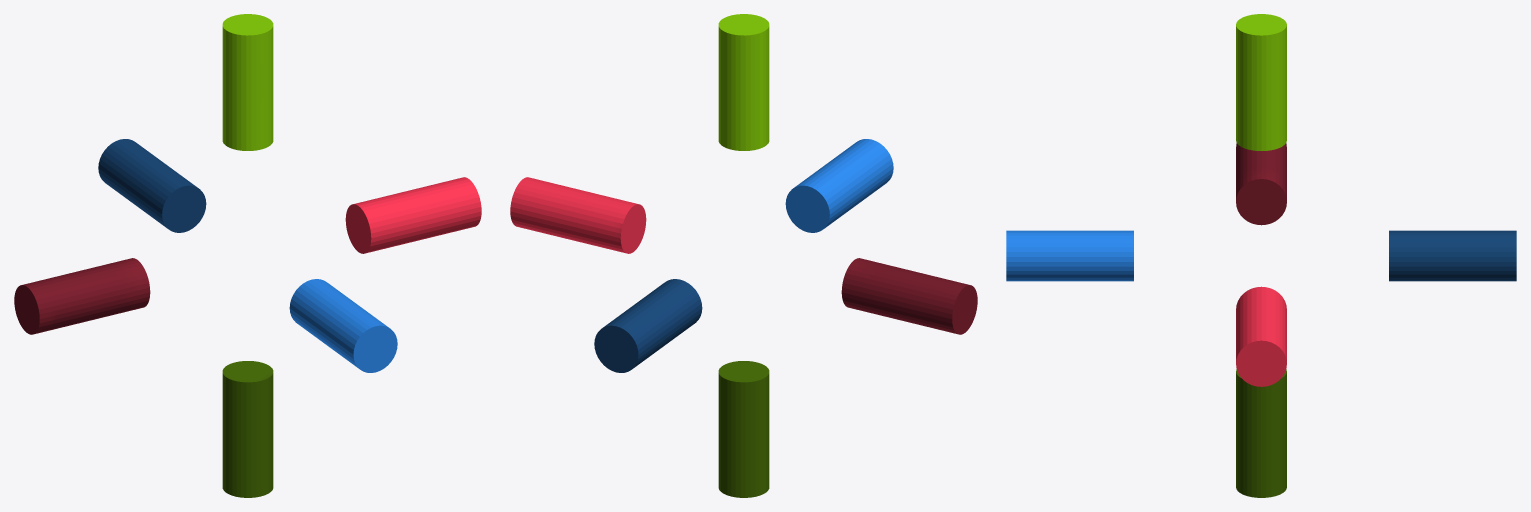
Rendered from reference_frame.glb.
3 views of the same model, side by side, from view 1: azimuth 30°, elevation 25°; view 2: azimuth 150°, elevation 25°; view 3: azimuth 270°, elevation 25° (orthographic).
Visible parts, largest first — view 1: Object_2; view 2: Object_2; view 3: Object_2.
Part boxes in pixels (<box>): Object_2: <box>14,14,481,497</box>; Object_2: <box>510,14,977,497</box>; Object_2: <box>1006,14,1516,497</box>.
Size of the model in its own units: 2 by 2 by 2.
1 material, 1 textured.
